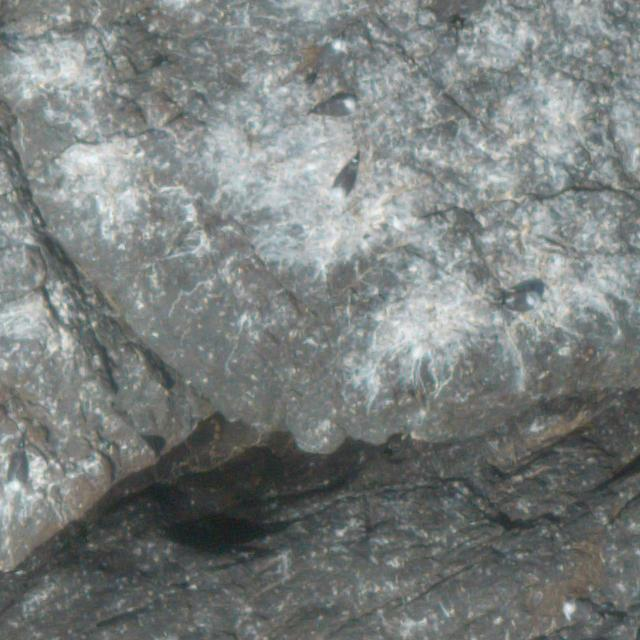umineko: (330, 156, 364, 202), (7, 444, 29, 494), (322, 97, 356, 114), (564, 602, 594, 621), (506, 292, 534, 309)
